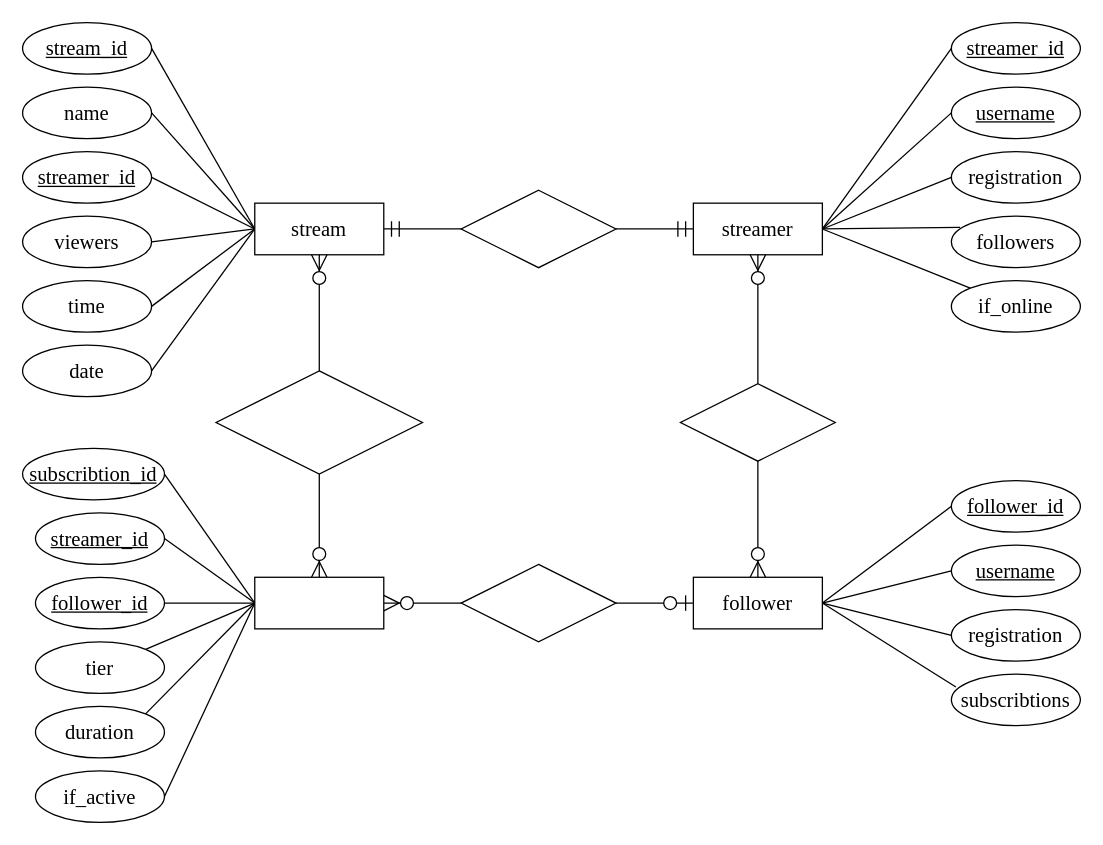
The diagram is 1103 pixels wide and 845 high, and some of its shapes have lost their labels. Here are the shapes that lost their labels. From the top down, the centre of each, then its label:
(538,228): who streams?
(318,422): what subscribed to?
(757,421): who follows?
(318,602): subscribtion
(538,602): what followers?
